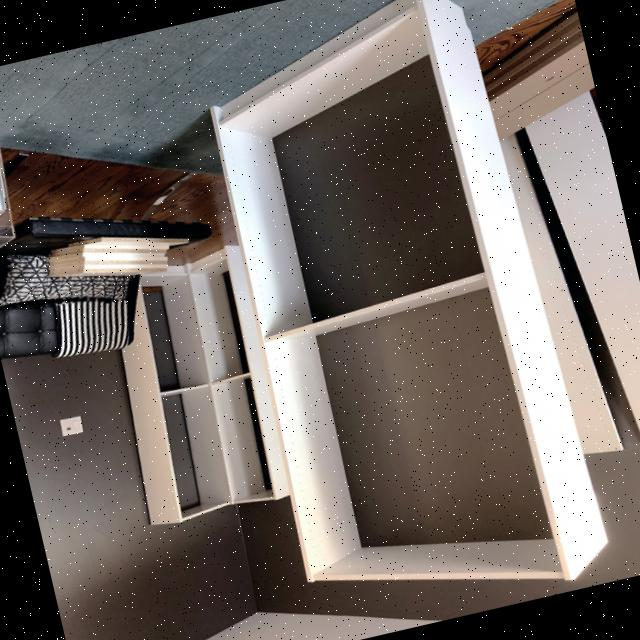Shelf: (174, 0, 626, 640)
